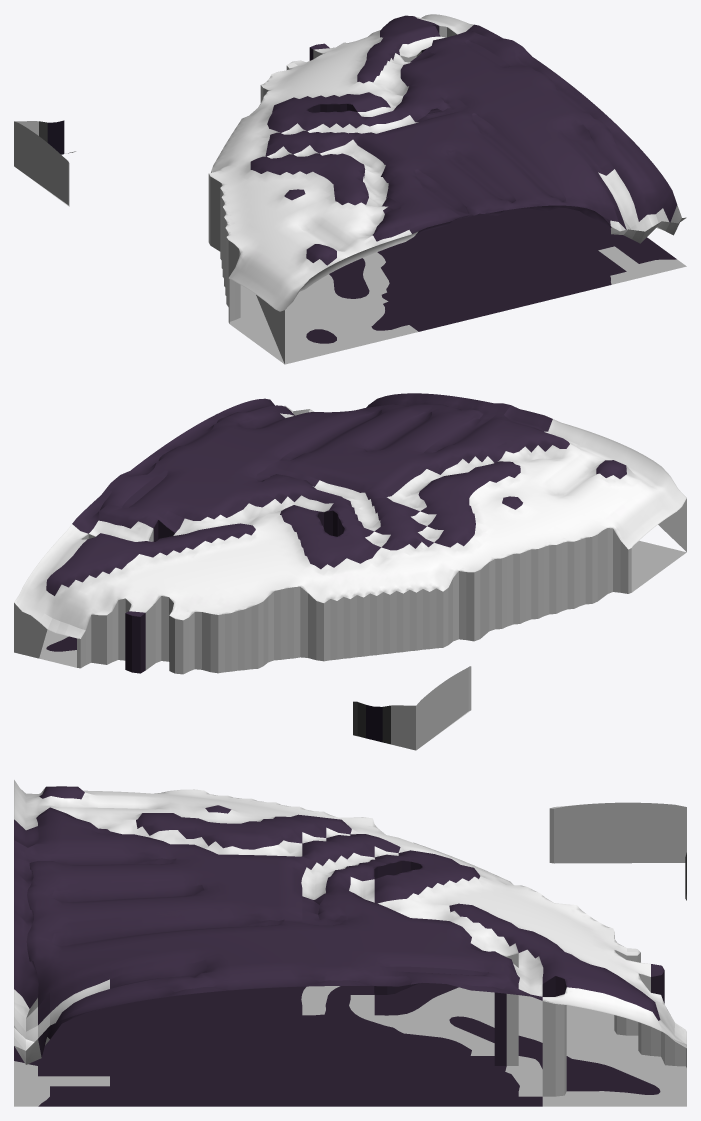
File: delbld-hull-550.glb
The picture shows the model from 3 angles, top to bottom: view 1: azimuth 30°, elevation 25°; view 2: azimuth 150°, elevation 25°; view 3: azimuth 270°, elevation 25°; orthographic projection. The views are drawn at different scales.
Visible parts, largest first — view 1: delbld-hull-550; view 2: delbld-hull-550; view 3: delbld-hull-550.
Boxes of the visible parts, x1=… form: delbld-hull-550: x1=14, y1=14, x2=686, y2=364; delbld-hull-550: x1=14, y1=393, x2=686, y2=750; delbld-hull-550: x1=14, y1=780, x2=686, y2=1106.
Bounding box in the file's own units: 2 × 0.4956 × 2.33.
Materials: 5 (5 with a texture image).
